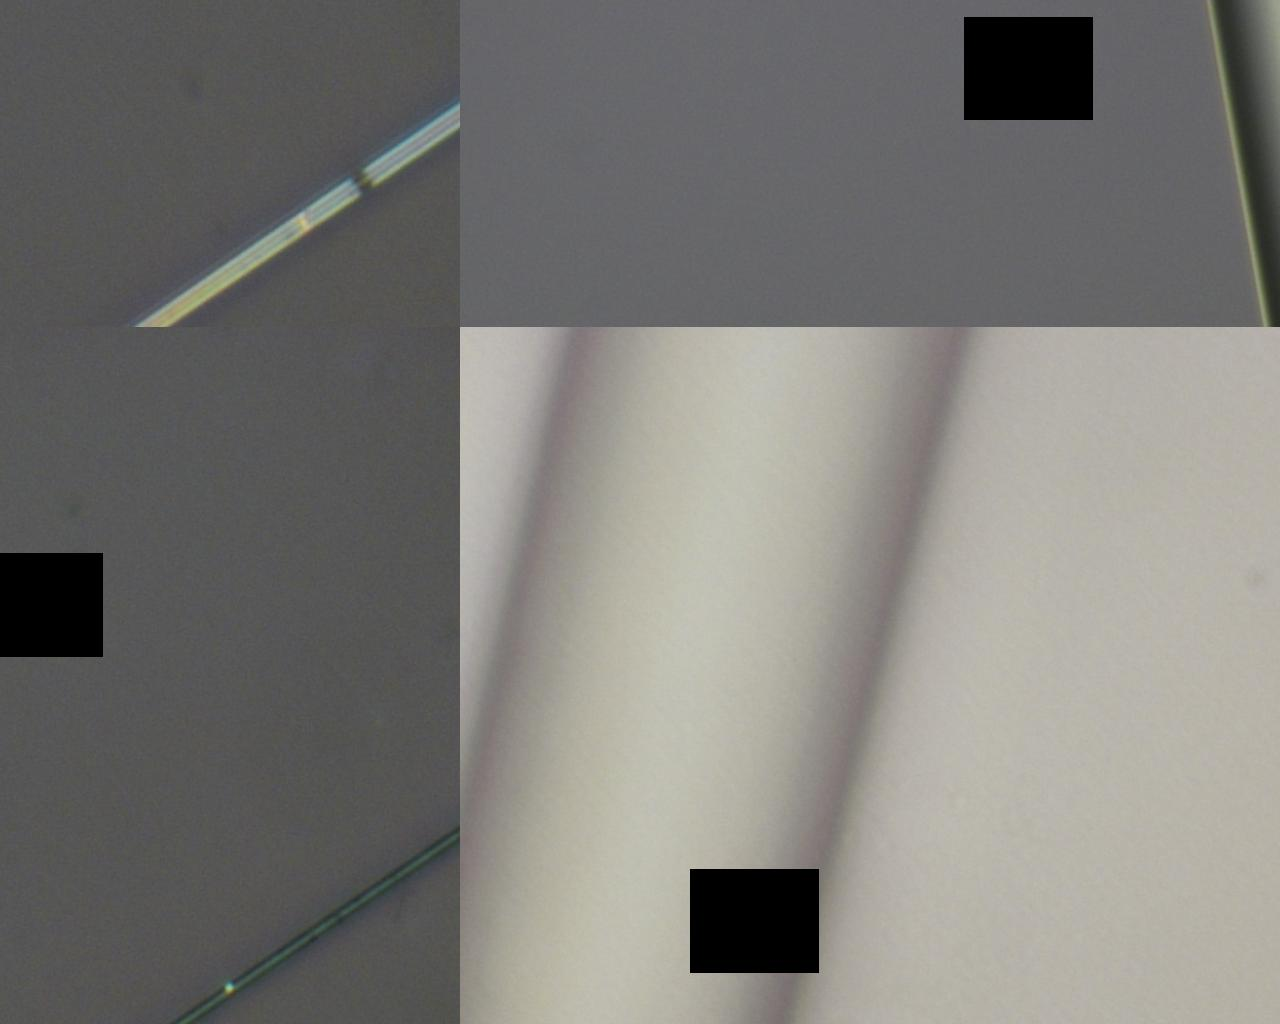fiber: (127, 357, 1151, 587)
